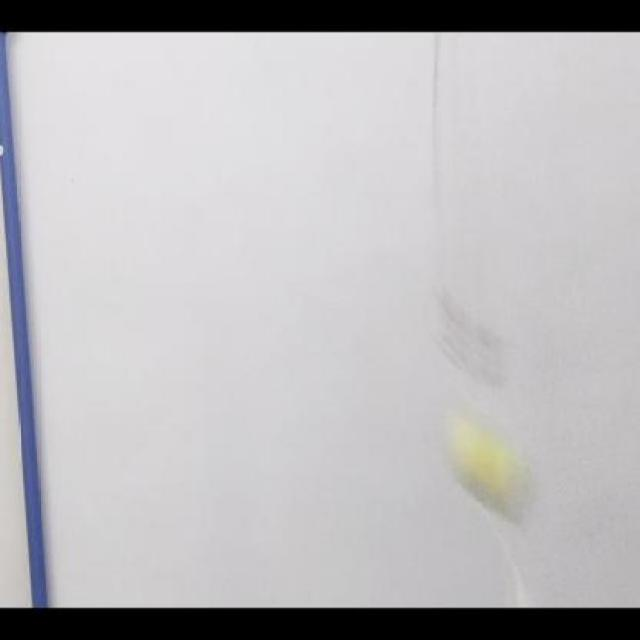baseball: (446, 412, 537, 530)
